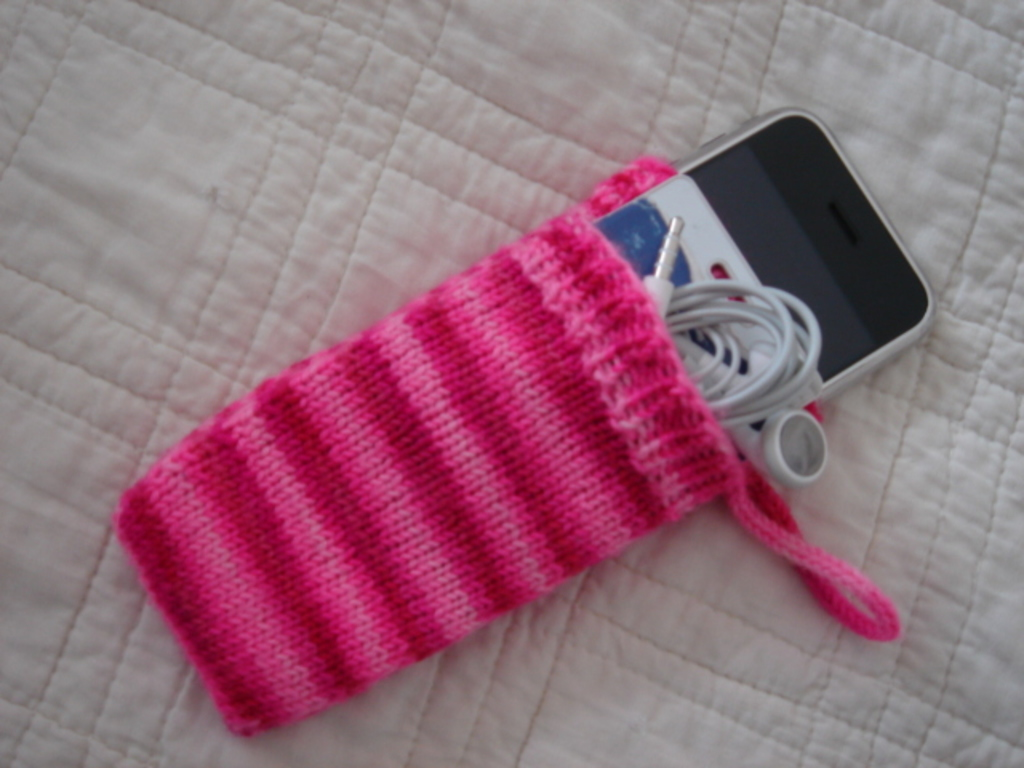Mobile-phone: (594, 107, 941, 430)
